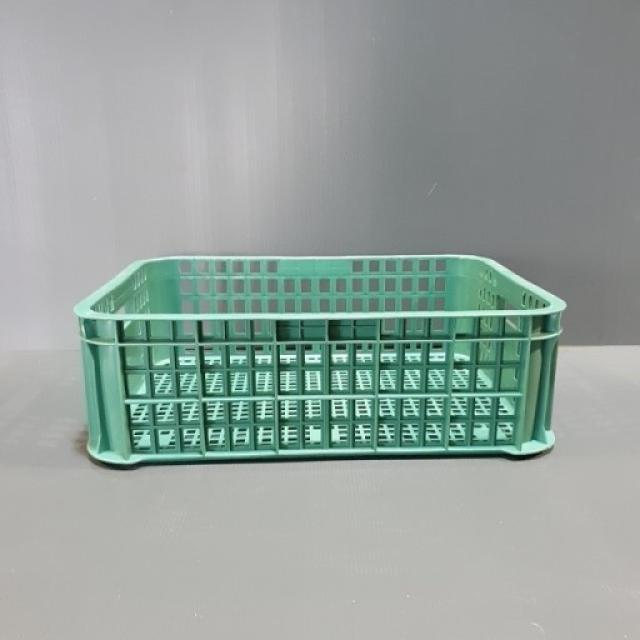basket: (74, 248, 569, 467)
